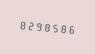eight: (41, 19, 48, 34), (57, 20, 64, 35), (17, 17, 24, 31)
five: (49, 20, 56, 34)
nine: (33, 18, 40, 33)
six: (65, 21, 72, 36)
two: (25, 18, 32, 32)
